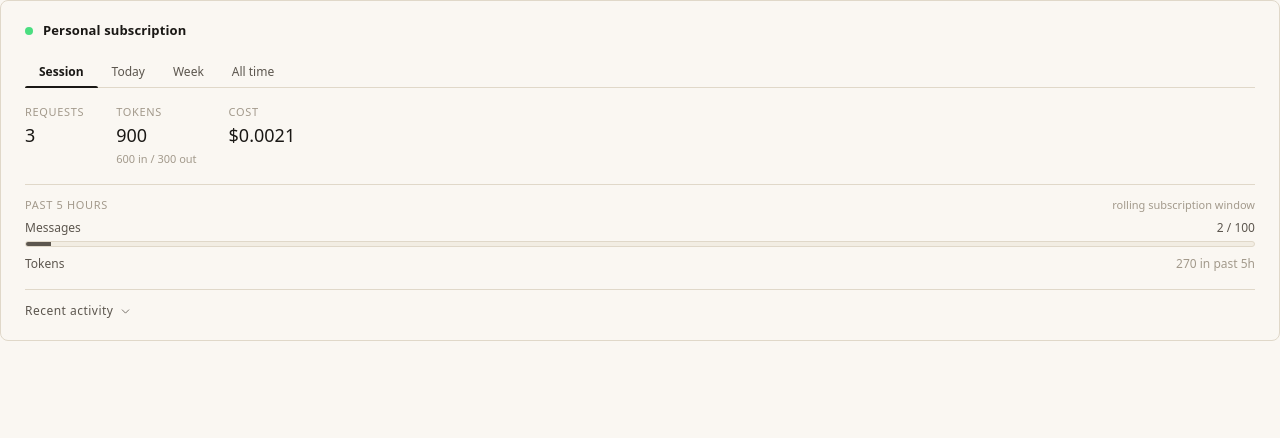
it: PersonalUsageTile — recent activity › collapses recent activity on second click
This screenshot has width=1280, height=438.
Click the button "Recent activity": (79, 311) [25,302,132,320]
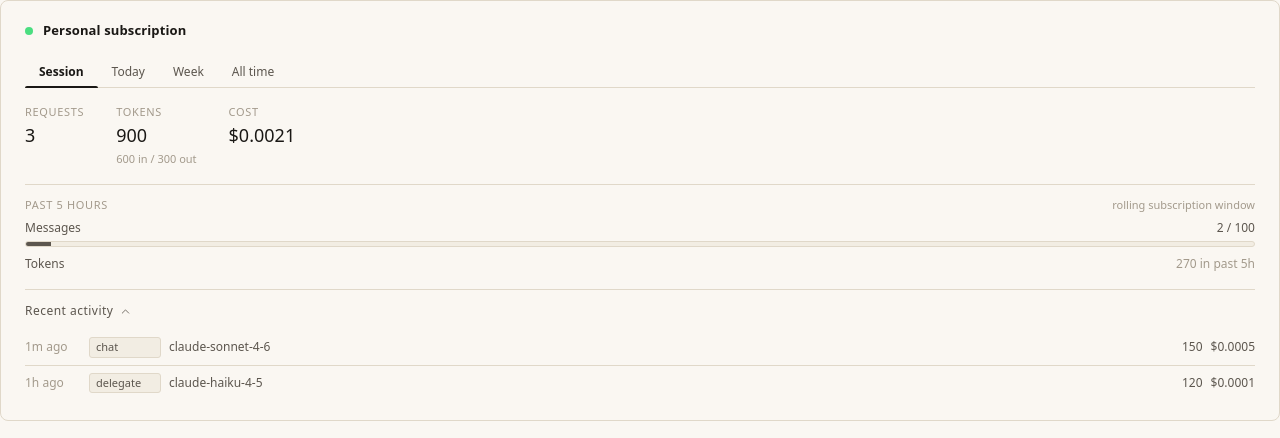
Now the button "Recent activity" is expanded
Click the button "Recent activity": (79, 311) [25,302,132,320]
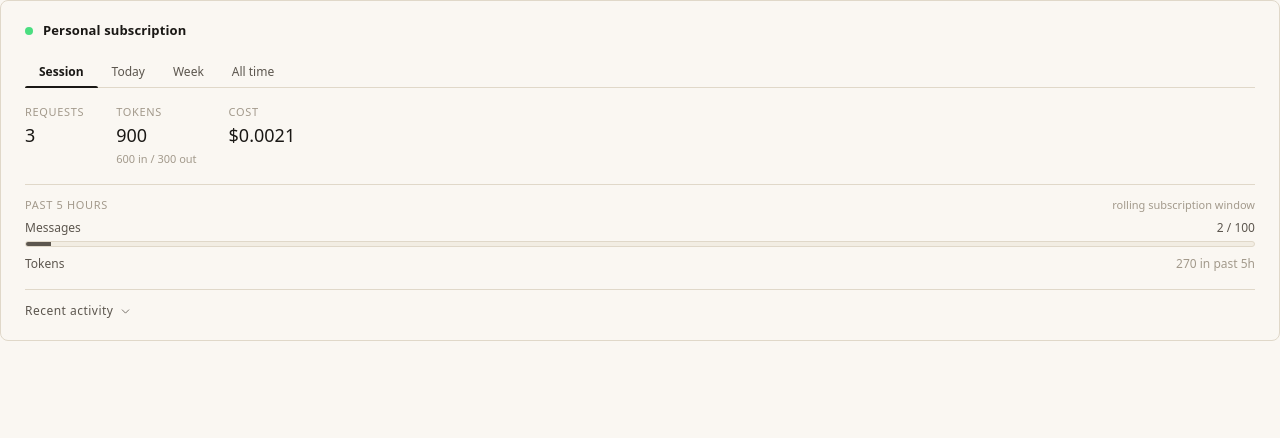
Now the button "Recent activity" is collapsed, box [25,302,132,320]
